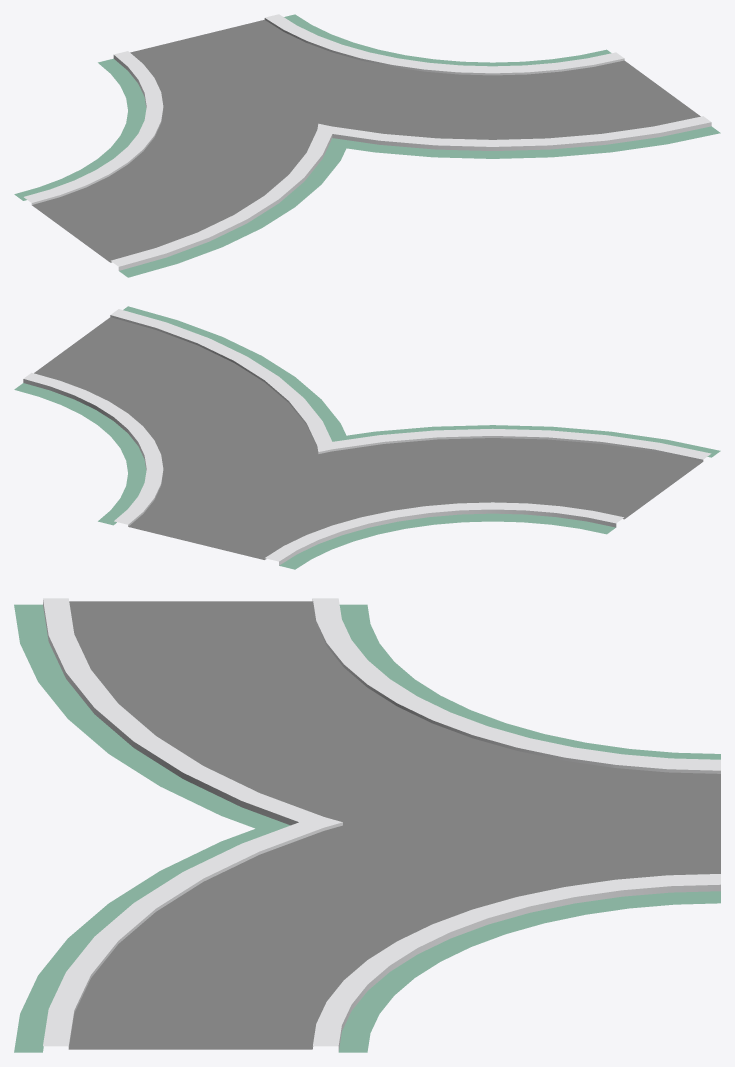
The picture shows the model from 3 angles, top to bottom: view 1: azimuth 30°, elevation 25°; view 2: azimuth 150°, elevation 25°; view 3: azimuth 270°, elevation 25°; orthographic projection. The views are drawn at different scales.
Visible parts, largest first — view 1: roadSplitRound; view 2: roadSplitRound; view 3: roadSplitRound.
Boxes of the visible parts, x1,y1,x2,y2 form: roadSplitRound: [14, 14, 720, 277]; roadSplitRound: [14, 306, 720, 569]; roadSplitRound: [14, 598, 720, 1052].
Size of the model in its own units: 30 by 0.2 by 20.
